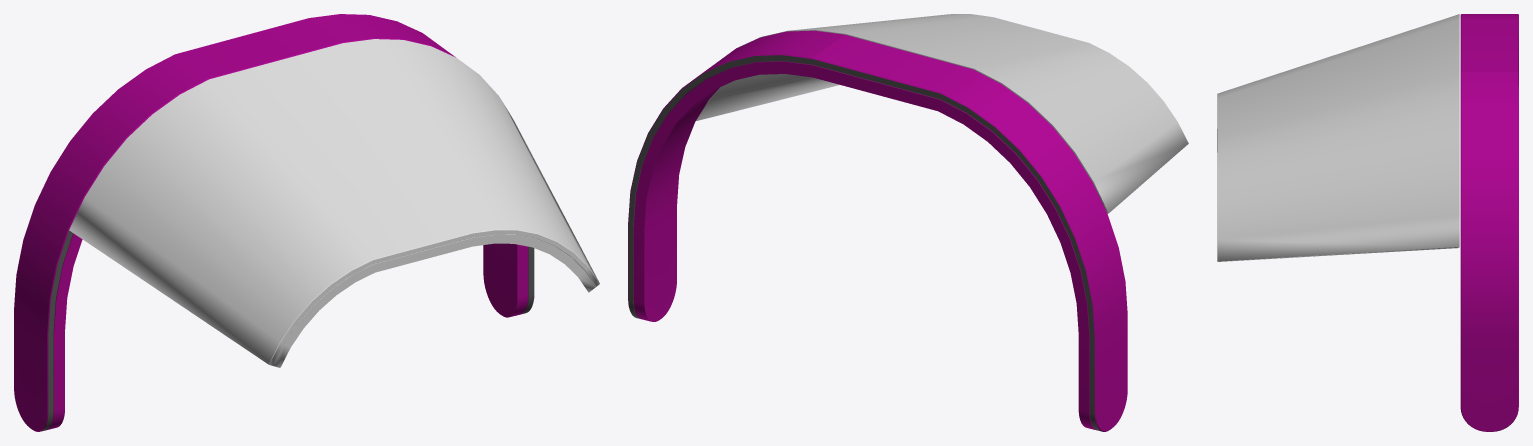
The model's file is sapka.fbx.
The picture shows the model from 3 angles, left to right: view 1: azimuth 30°, elevation 25°; view 2: azimuth 150°, elevation 25°; view 3: azimuth 270°, elevation 25°; orthographic projection. The views are drawn at different scales.
Visible parts, largest first — view 1: kulaklık.001, kulaklık; view 2: kulaklık, kulaklık.001; view 3: kulaklık.001, kulaklık.
Boxes of the visible parts, bbox=[...] form: kulaklık.001: bbox=[69, 39, 599, 367]; kulaklık: bbox=[14, 14, 534, 431]; kulaklık: bbox=[628, 30, 1127, 431]; kulaklık.001: bbox=[696, 14, 1188, 213]; kulaklık.001: bbox=[1217, 14, 1459, 261]; kulaklık: bbox=[1460, 14, 1518, 431].
Bounding box in the file's own units: 139 × 88.94 × 86.96.
